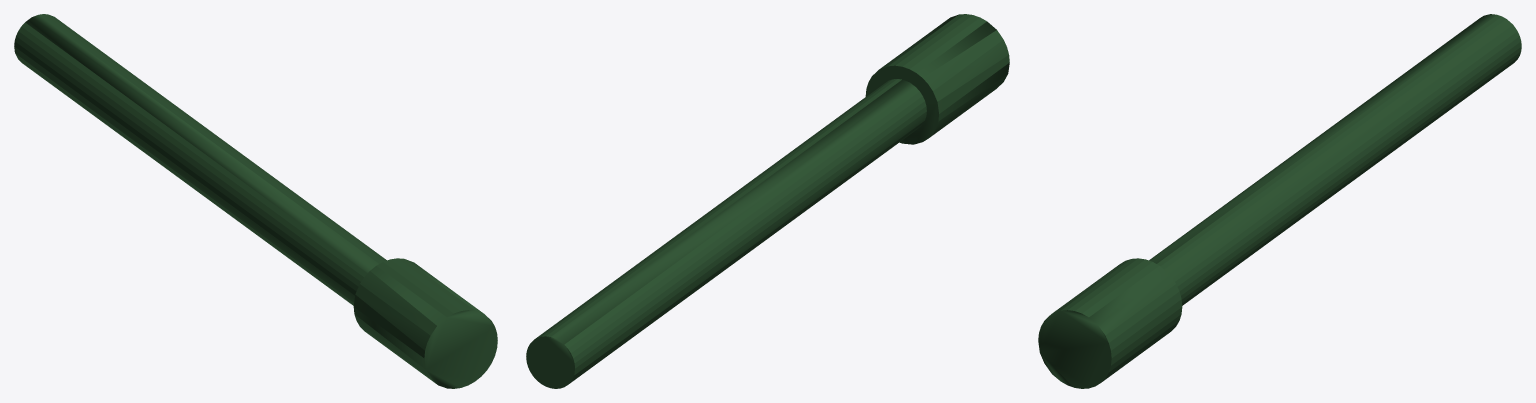
The model's file is PattonMainGun.obj.
3 renders of one model, left to right at view 1: azimuth 30°, elevation 25°; view 2: azimuth 150°, elevation 25°; view 3: azimuth 330°, elevation 25°, orthographic.
Parts seen in each view (by area): view 1: 円柱.001, 円柱.002; view 2: 円柱.001, 円柱.002; view 3: 円柱.001, 円柱.002.
Part boxes in pixels (x1,y1,x2,y2): 円柱.001: (14,14,386,305); 円柱.002: (353,258,497,388); 円柱.001: (526,79,926,388); 円柱.002: (865,14,1009,144); 円柱.001: (1149,14,1521,305); 円柱.002: (1038,258,1182,388).
Bounding box in the file's own units: 0.6 × 0.6 × 5.98.
Materials: 2 (2 with a texture image).
